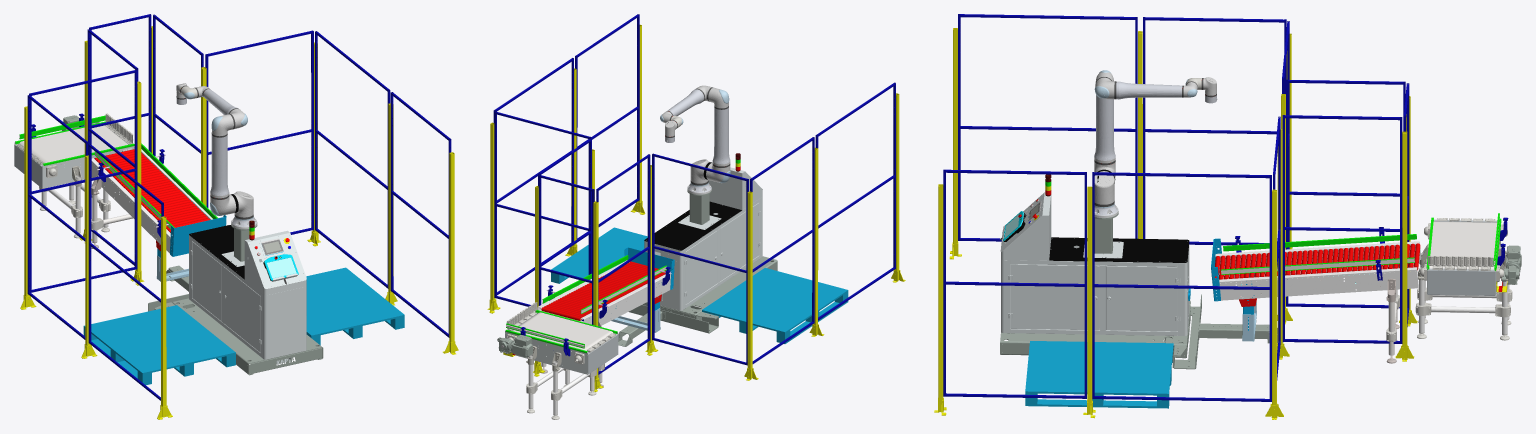
The model's file is 19-base-esteira-reta-convertedor-esquerdo-gradil.glb.
3 views of the same model, side by side, from view 1: azimuth 30°, elevation 25°; view 2: azimuth 150°, elevation 25°; view 3: azimuth 270°, elevation 25° (orthographic). The views are drawn at different scales.
Visible parts, largest first — view 1: world; view 2: world; view 3: world.
Boxes of the visible parts, x1,y1,x2,y2 form: world: (14,14,458,419); world: (487,14,905,419); world: (934,14,1521,419).
Bounding box in the file's own units: 3329 × 2349 × 4901.
